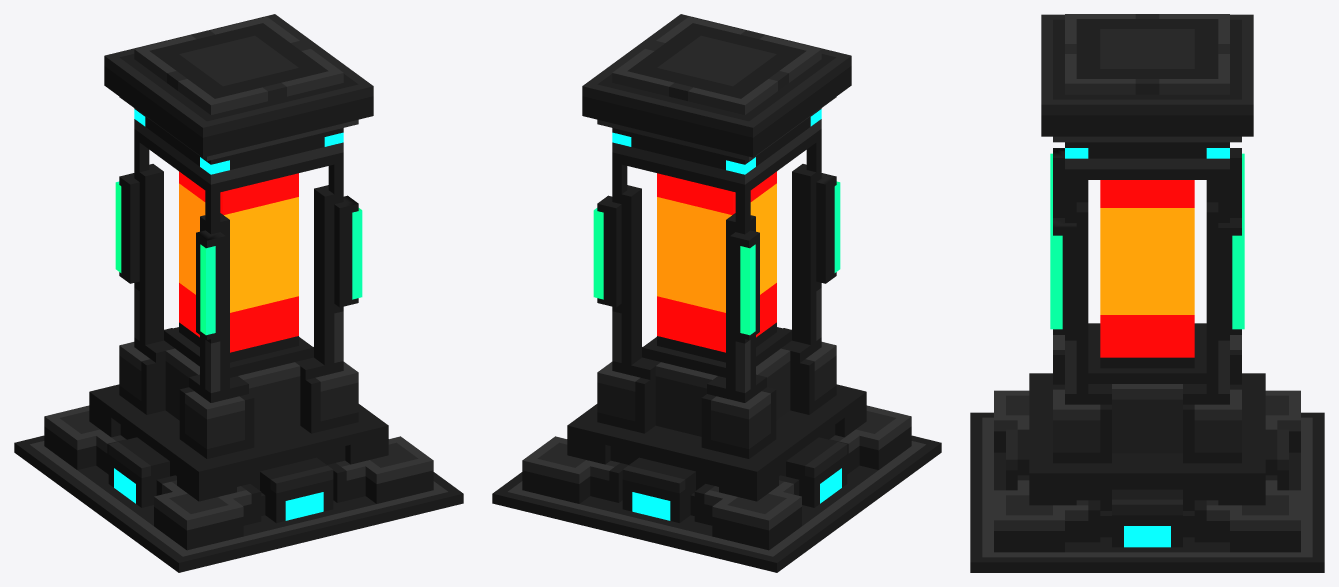
Rendered from env_prop_centrifuge.fbx.
3 views of the same model, side by side, from view 1: azimuth 30°, elevation 25°; view 2: azimuth 150°, elevation 25°; view 3: azimuth 270°, elevation 25° (orthographic). The views are drawn at different scales.
Parts seen in each view (by area): view 1: Centrifuge_Body, Centrifuge_Core, Centrifuge_FeedbackLights; view 2: Centrifuge_Body, Centrifuge_Core, Centrifuge_FeedbackLights; view 3: Centrifuge_Body, Centrifuge_Core, Centrifuge_FeedbackLights.
Boxes of the visible parts, box(x1,y1,x2,y2) form: Centrifuge_Body: box(14, 14, 463, 572); Centrifuge_Core: box(179, 171, 298, 352); Centrifuge_FeedbackLights: box(115, 181, 362, 335); Centrifuge_Body: box(492, 14, 941, 572); Centrifuge_Core: box(657, 171, 776, 352); Centrifuge_FeedbackLights: box(593, 181, 840, 335); Centrifuge_Body: box(970, 14, 1324, 572); Centrifuge_Core: box(1100, 180, 1194, 357); Centrifuge_FeedbackLights: box(1050, 153, 1244, 329).
Bounding box in the file's own units: 240 × 336 × 240.
1 material, 1 textured.
